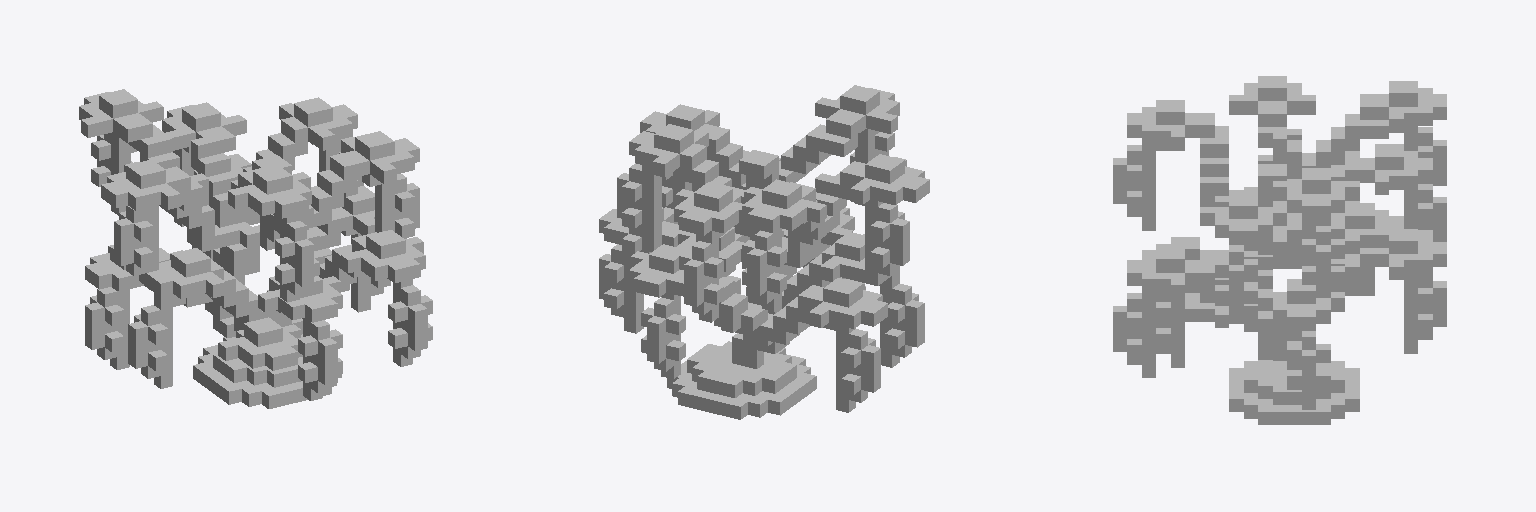
Rendered from 0_1 feij.obj.
3 views of the same model, side by side, from view 1: azimuth 30°, elevation 25°; view 2: azimuth 150°, elevation 25°; view 3: azimuth 270°, elevation 25° (orthographic).
Parts seen in each view (by area): view 1: object 1; view 2: object 1; view 3: object 1.
Boxes of the visible parts, box(x1,y1,x2,y2) form: object 1: box(79, 89, 432, 408); object 1: box(599, 85, 929, 419); object 1: box(1113, 76, 1446, 424).
Bounding box in the file's own units: 2.4 × 2 × 2.3.